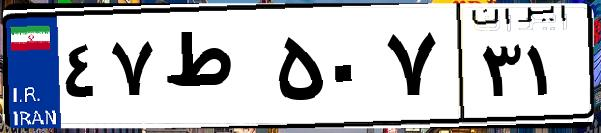0: (330, 28, 385, 110)
1: (525, 38, 570, 115)
3: (475, 38, 525, 113)
4: (57, 26, 110, 100)
5: (270, 28, 330, 110)
7: (385, 28, 445, 110), (110, 28, 158, 98)
ط: (158, 20, 270, 120)
